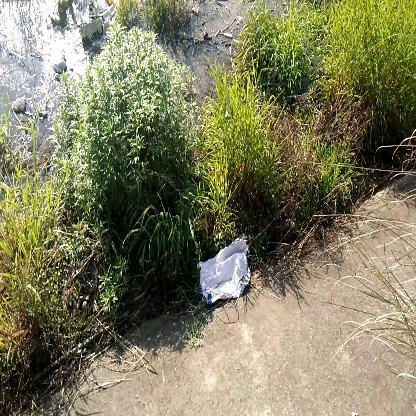plastic-bag: (193, 238, 257, 305)
